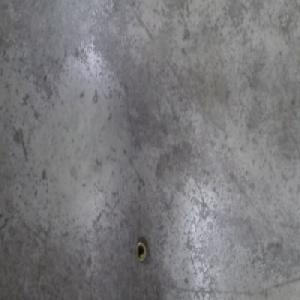Nut: (134, 237, 148, 264)
